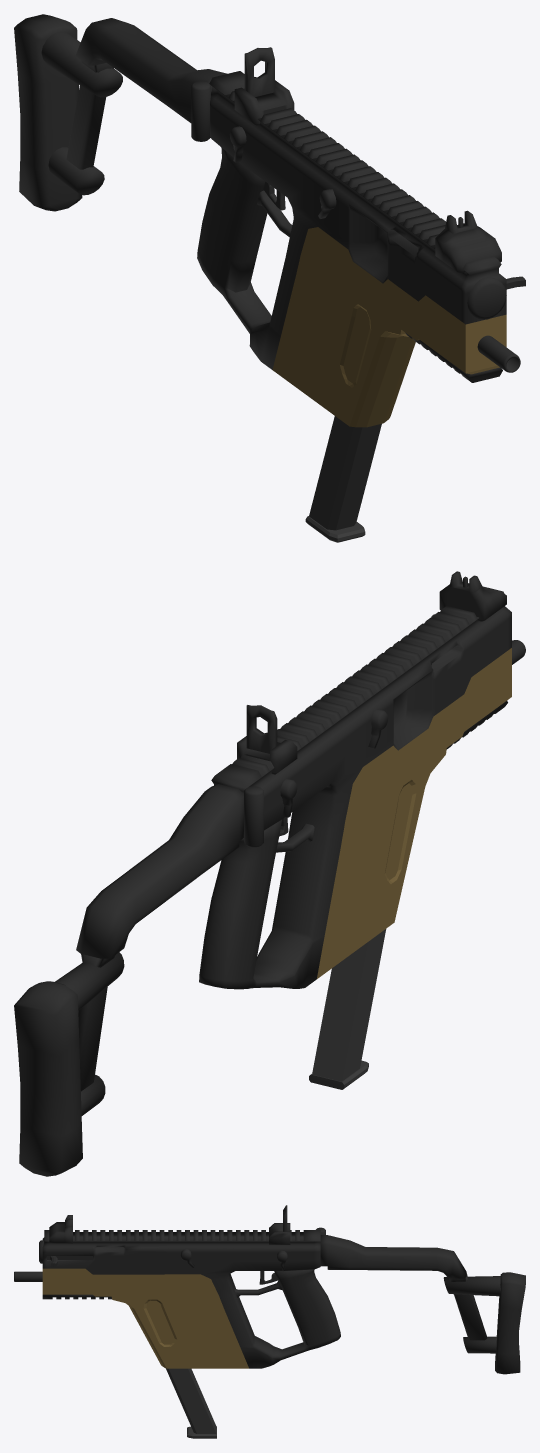
The model's file is vector.glb.
3 renders of one model, top to bottom at view 1: azimuth 30°, elevation 25°; view 2: azimuth 150°, elevation 25°; view 3: azimuth 270°, elevation 25°, orthographic. The views are drawn at different scales.
Parts seen in each view (by area): view 1: vector; view 2: vector; view 3: vector.
Boxes of the visible parts, bbox=[...] form: vector: bbox=[14, 14, 525, 542]; vector: bbox=[14, 571, 525, 1176]; vector: bbox=[14, 1205, 525, 1438].
Bounding box in the file's own units: 0.0607 × 0.3033 × 0.62.
Materials: 4 (4 with a texture image).
